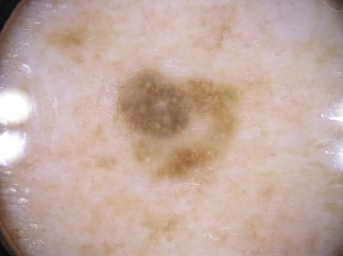seborrheic keratosis: (94, 57, 245, 188)
